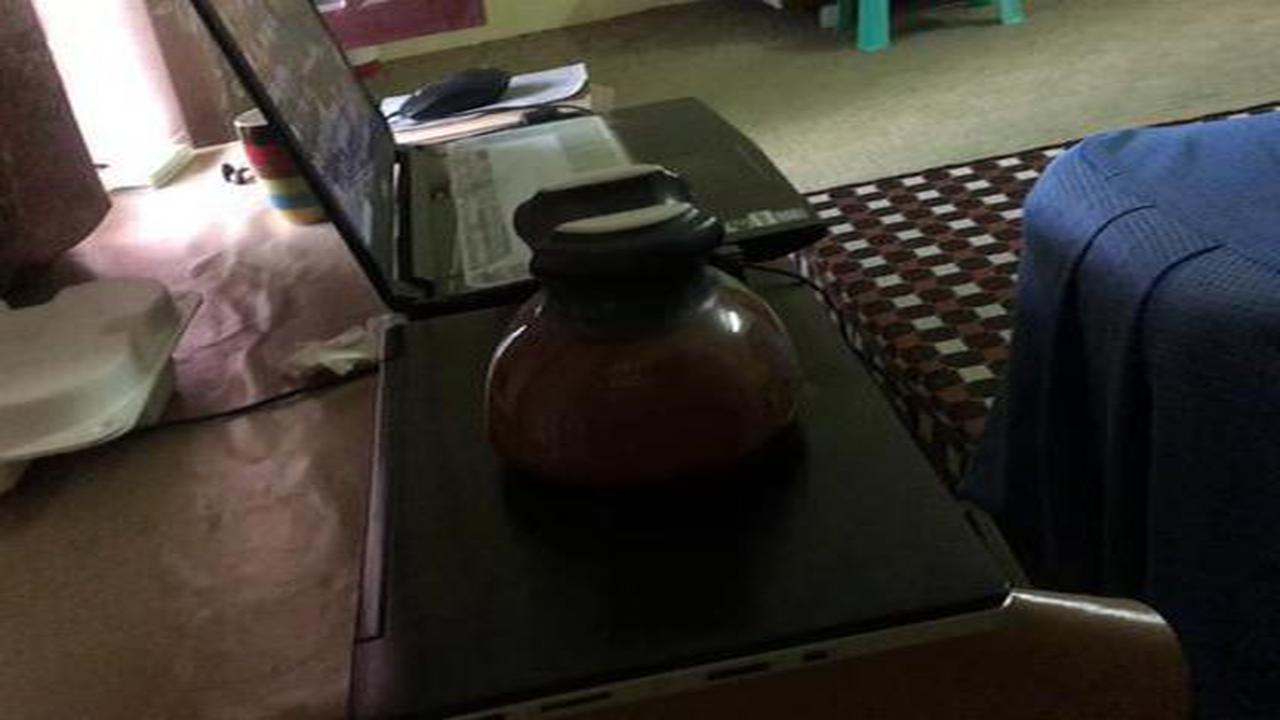insulator_pin: (456, 156, 825, 509)
